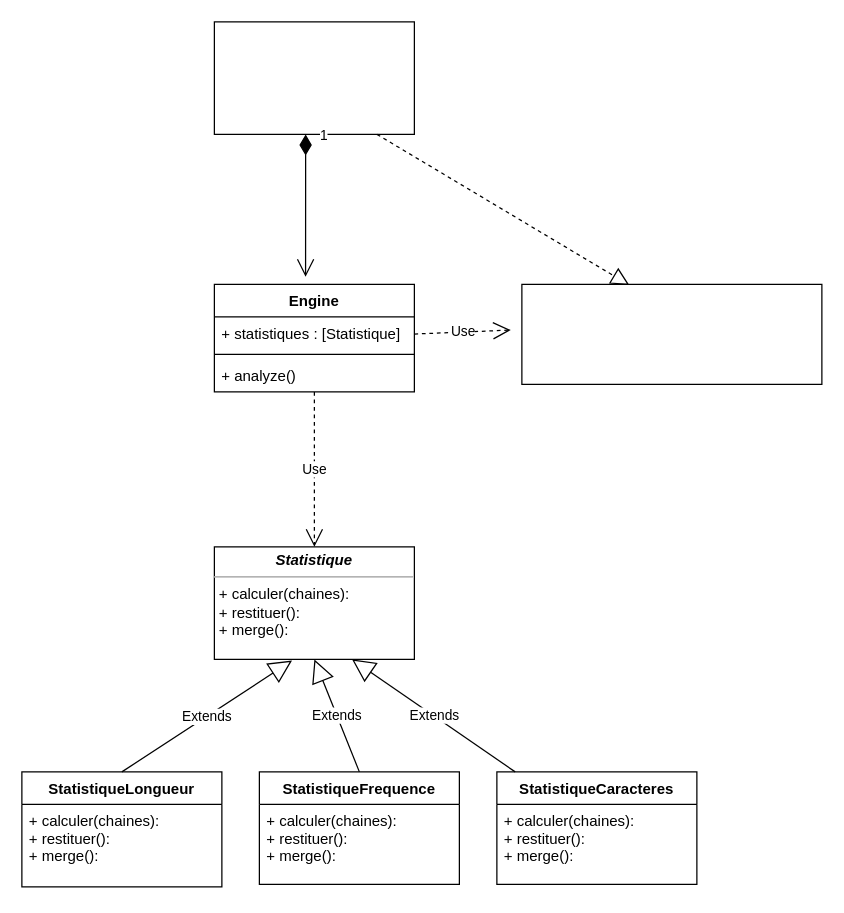
Some shapes in this 844 by 913 pixel diagram are drawn without their labels. The shapes that lost their labels are listed below. From the top down, each one's centre as x and y in pixels, then its label:
pixel 313 77: PsaGui + display()
pixel 671 333: <<Interface>> EngineObserver + notifyEngineObserver (notification)
